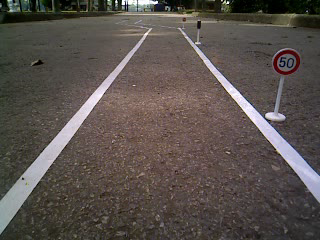limit 50: (268, 47, 304, 79)
